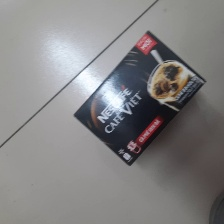CF Viet: (73, 29, 208, 169)
